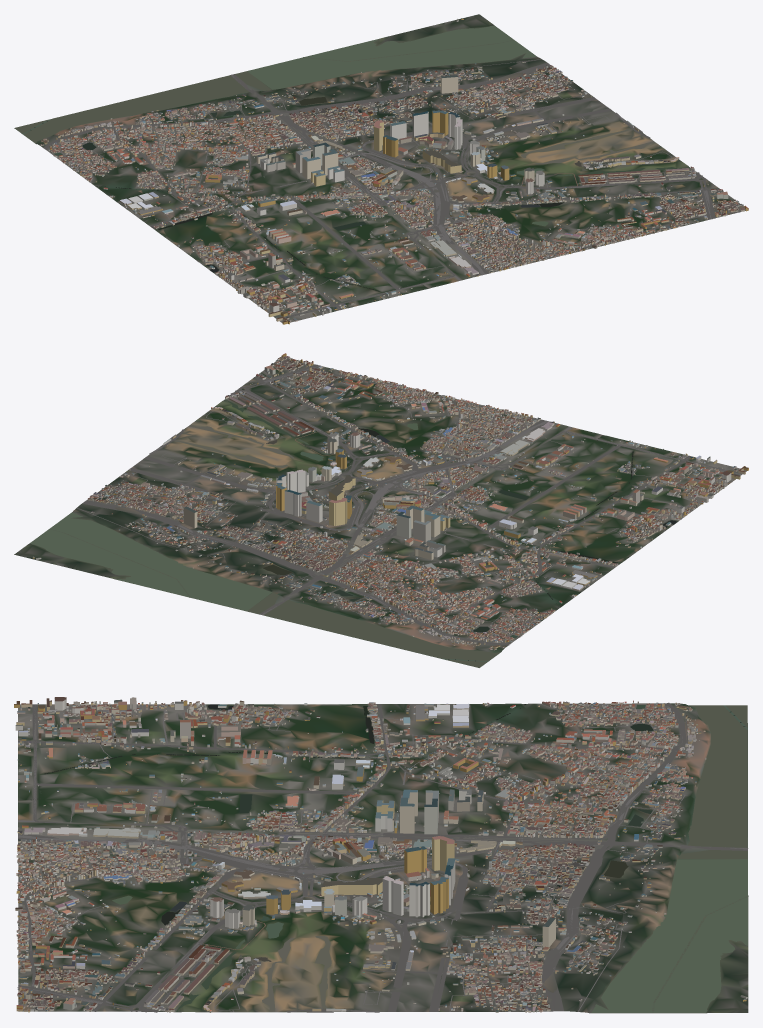
3 views of the same model, one above another, from view 1: azimuth 30°, elevation 25°; view 2: azimuth 150°, elevation 25°; view 3: azimuth 270°, elevation 25° (orthographic). The views are drawn at different scales.
Parts seen in each view (by area): view 1: ground, buildings, water, roads; view 2: ground, buildings, water, roads; view 3: ground, buildings, water, roads.
Boxes of the visible parts, box(x1,y1,x2,y2) form: ground: box(14, 14, 745, 323); buildings: box(40, 18, 748, 324); water: box(15, 25, 689, 291); roads: box(43, 59, 740, 318); ground: box(14, 358, 746, 667); buildings: box(32, 353, 748, 650); water: box(30, 399, 676, 667); roads: box(77, 358, 742, 645); ground: box(18, 703, 748, 1013); buildings: box(14, 697, 747, 1012); water: box(30, 704, 748, 1012); roads: box(17, 702, 748, 1012).
Size of the model in its own units: 2827 by 141 by 2823.
